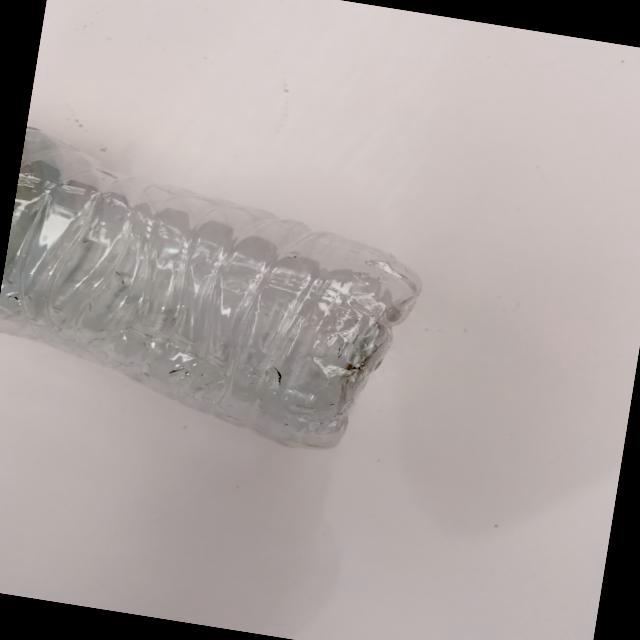plastic: (0, 121, 465, 472)
